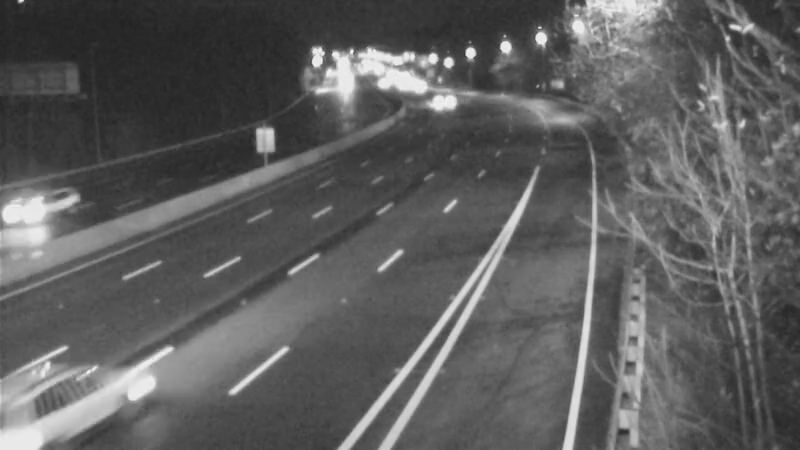vehicle: (1, 356, 92, 450), (1, 167, 78, 247), (421, 80, 471, 130)
